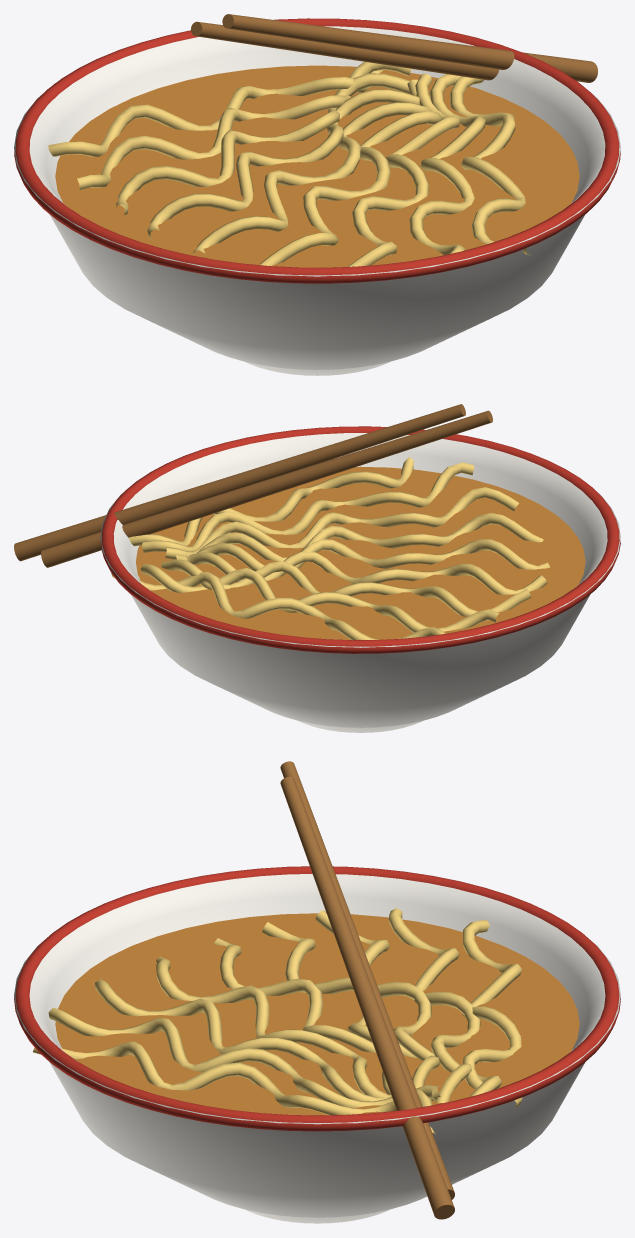
Rendered from noodles.glb.
3 renders of one model, top to bottom at view 1: azimuth 30°, elevation 25°; view 2: azimuth 150°, elevation 25°; view 3: azimuth 270°, elevation 25°, orthographic. The views are drawn at different scales.
Visible parts, largest first — view 1: noodles; view 2: noodles; view 3: noodles.
Boxes of the visible parts, left/top/right/bottom form: noodles: left=14, top=14, right=620, bottom=375; noodles: left=14, top=404, right=620, bottom=732; noodles: left=14, top=761, right=620, bottom=1223.
Size of the model in its own units: 0.2868 by 0.1618 by 0.25.
